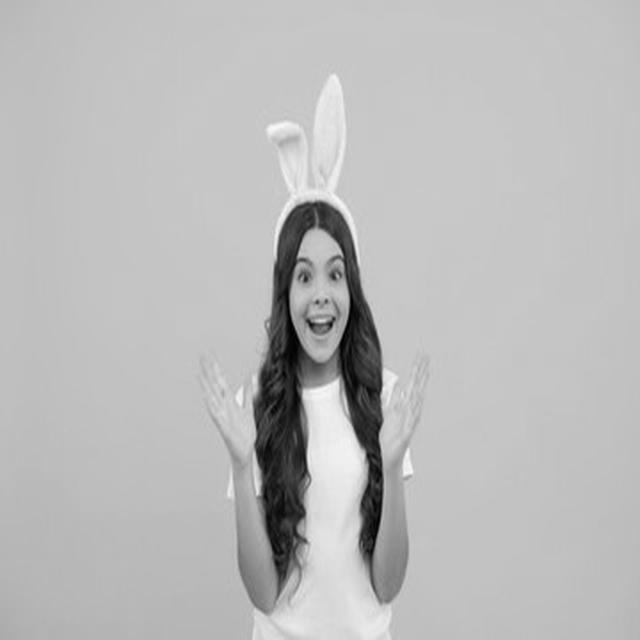Surprised: (290, 228, 350, 363)
